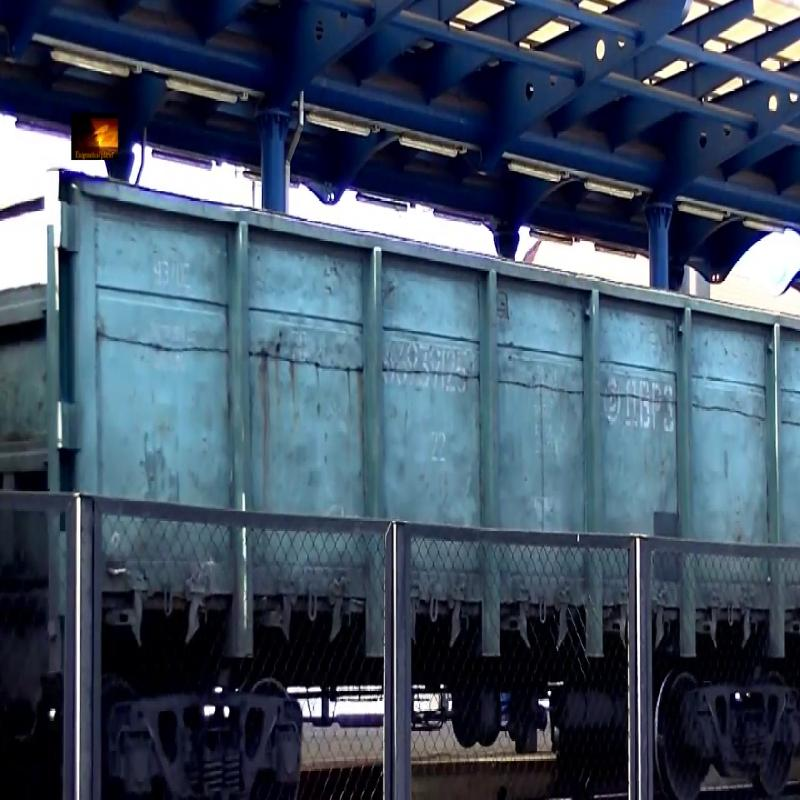train: (81, 49, 800, 773)
